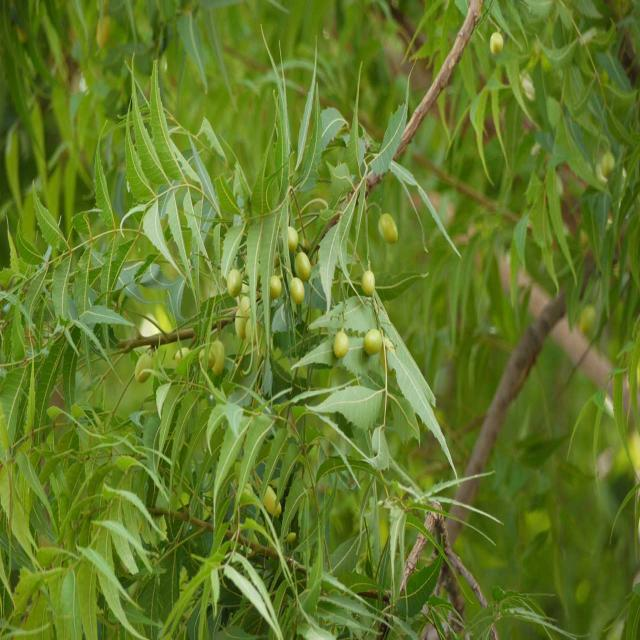Medicinal-Neem: (0, 50, 424, 640)
